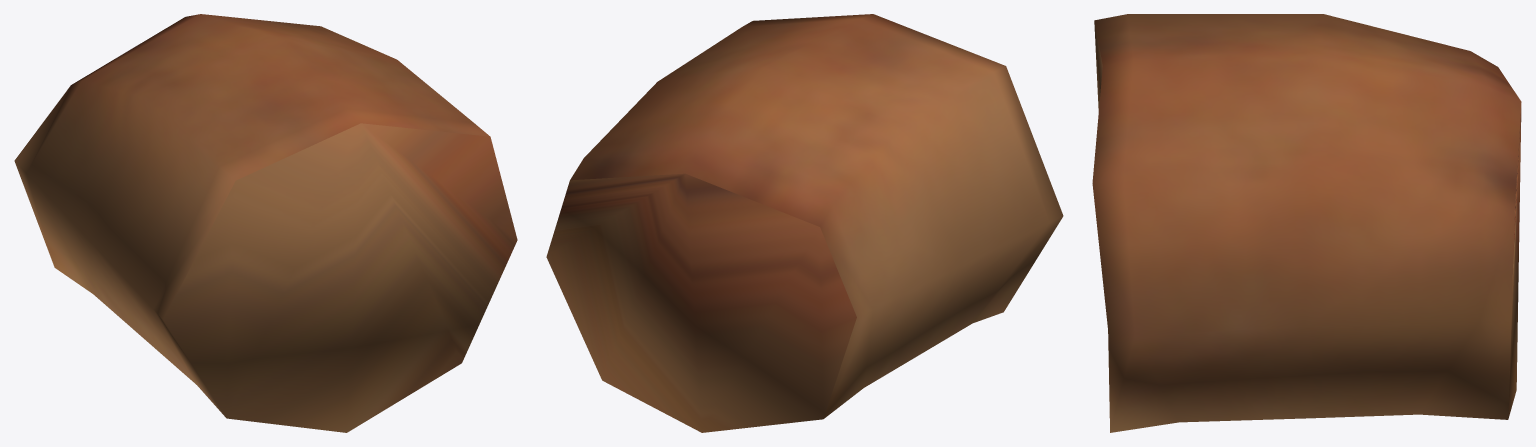
Rendered from middle_02_l.dae.
3 views of the same model, side by side, from view 1: azimuth 30°, elevation 25°; view 2: azimuth 150°, elevation 25°; view 3: azimuth 270°, elevation 25° (orthographic). The views are drawn at different scales.
Parts seen in each view (by area): view 1: middle_2_l; view 2: middle_2_l; view 3: middle_2_l.
Boxes of the visible parts, <box> form: middle_2_l: <box>14,14,517,432</box>; middle_2_l: <box>546,14,1063,432</box>; middle_2_l: <box>1092,14,1521,432</box>.
Size of the model in its own units: 0.0217 by 0.0198 by 0.0188.
1 material, 1 textured.
